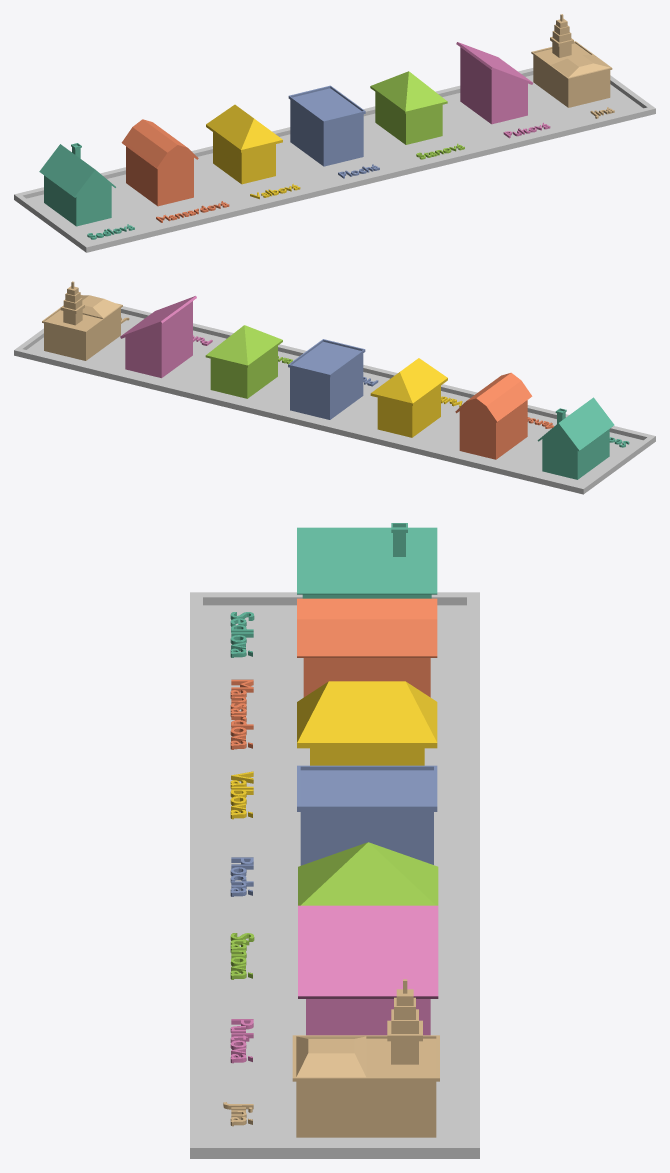
The model's file is legenda_scaled_v1.glb.
3 views of the same model, one above another, from view 1: azimuth 30°, elevation 25°; view 2: azimuth 150°, elevation 25°; view 3: azimuth 270°, elevation 25° (orthographic). The views are drawn at different scales.
Parts seen in each view (by area): view 1: podstava, plocha, mansardova, jina, sedlova, pultova, valbova, stanova, text_mesh_merged; view 2: podstava, plocha, mansardova, jina, sedlova, pultova, valbova, stanova, text_mesh_merged; view 3: podstava, pultova, jina, plocha, mansardova, valbova, sedlova, stanova, text_mesh_merged.
Boxes of the visible parts, x1,y1,x2,y2 form: podstava: (14,68,655,252); plocha: (288,85,365,166); mansardova: (121,119,198,206); jina: (531,14,612,107); sedlova: (39,143,115,226); pultova: (456,42,532,124); valbova: (206,104,282,184); stanova: (370,71,447,144); text_mesh_merged: (87,107,614,239); podstava: (14,306,655,494); plocha: (288,339,365,419); mansardova: (455,372,532,459); jina: (42,281,122,360); sedlova: (537,397,614,479); pultova: (120,296,196,378); valbova: (370,358,447,437); stanova: (205,325,282,398); text_mesh_merged: (121,317,629,447); podstava: (190,592,479,1158); pultova: (298,905,438,1035); jina: (292,979,439,1137); plocha: (297,765,437,865); mansardova: (297,598,437,697); valbova: (297,681,437,765); sedlova: (297,523,437,598); stanova: (298,842,438,905); text_mesh_merged: (223,612,254,1126).
Size of the model in its own units: 1.94 by 0.2273 by 0.4285.
1 material, 1 textured.
